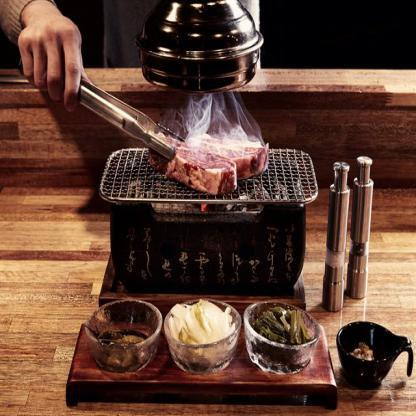pork: (163, 130, 269, 194)
